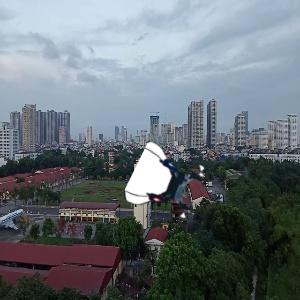drone: (133, 148, 206, 221)
